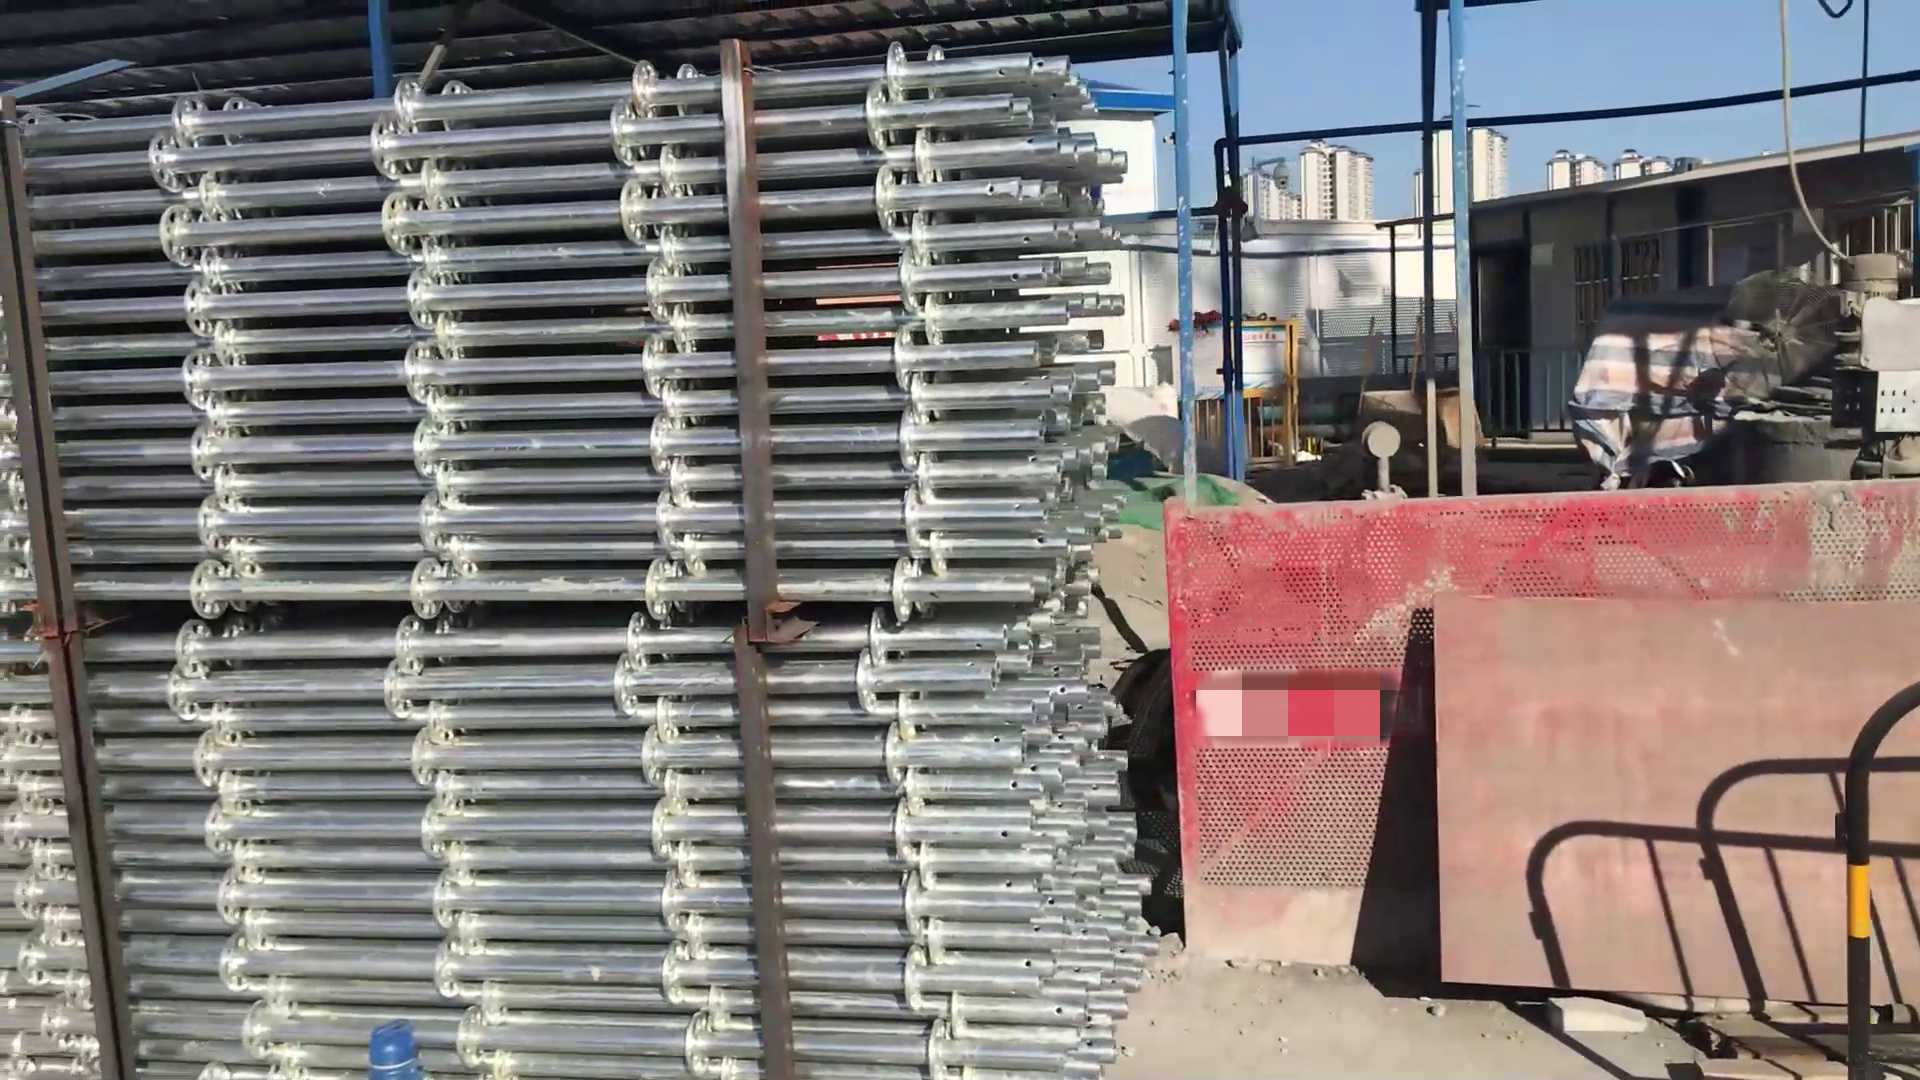fence: (1158, 469, 1846, 1018), (1832, 657, 1920, 1080)
scaffold: (22, 65, 1167, 1080)
